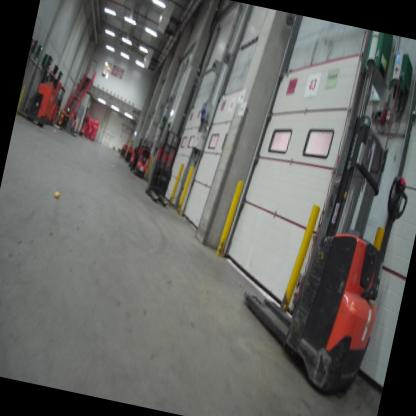forklift: (19, 48, 63, 128), (38, 60, 74, 131)
pallet_truck: (141, 121, 189, 209), (125, 133, 157, 181), (60, 102, 84, 138), (127, 140, 143, 170), (122, 142, 135, 167), (117, 137, 132, 157)
